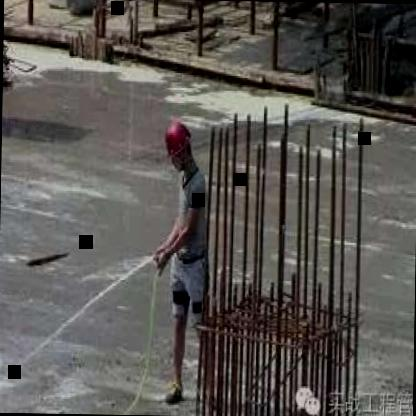helmet: (162, 118, 190, 165)
